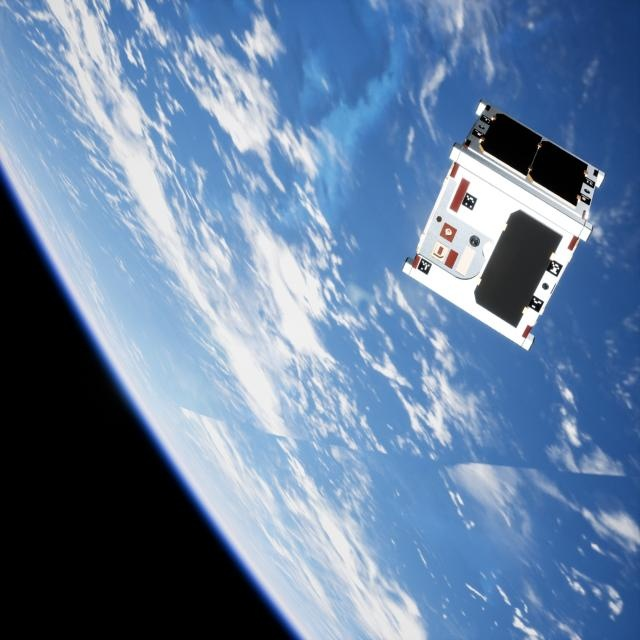satellite: (400, 100, 613, 356)
